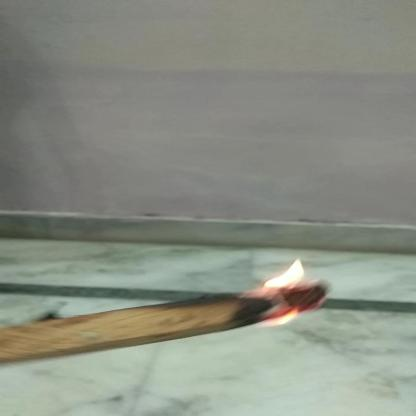fire: (240, 258, 336, 326)
